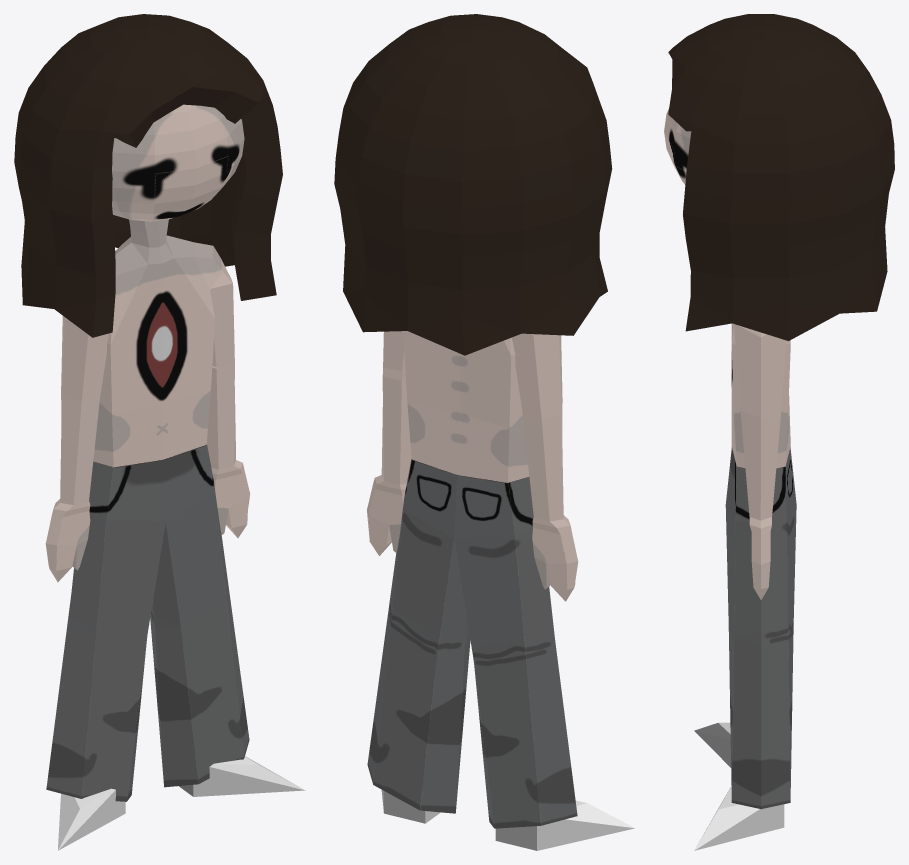
The model's file is carlos2.gltf.
The picture shows the model from 3 angles, left to right: view 1: azimuth 30°, elevation 25°; view 2: azimuth 150°, elevation 25°; view 3: azimuth 270°, elevation 25°; orthographic projection. The views are drawn at different scales.
Visible parts, largest first — view 1: rargos pechou; view 2: rargos pechou; view 3: rargos pechou.
Part boxes in pixels (x1,y1,x2,y2): rargos pechou: (14,14,305,850); rargos pechou: (334,14,634,850); rargos pechou: (664,14,894,850).
Bounding box in the file's own units: 0.394 × 1.17 × 0.3198.
Materials: 3 (1 with a texture image).
